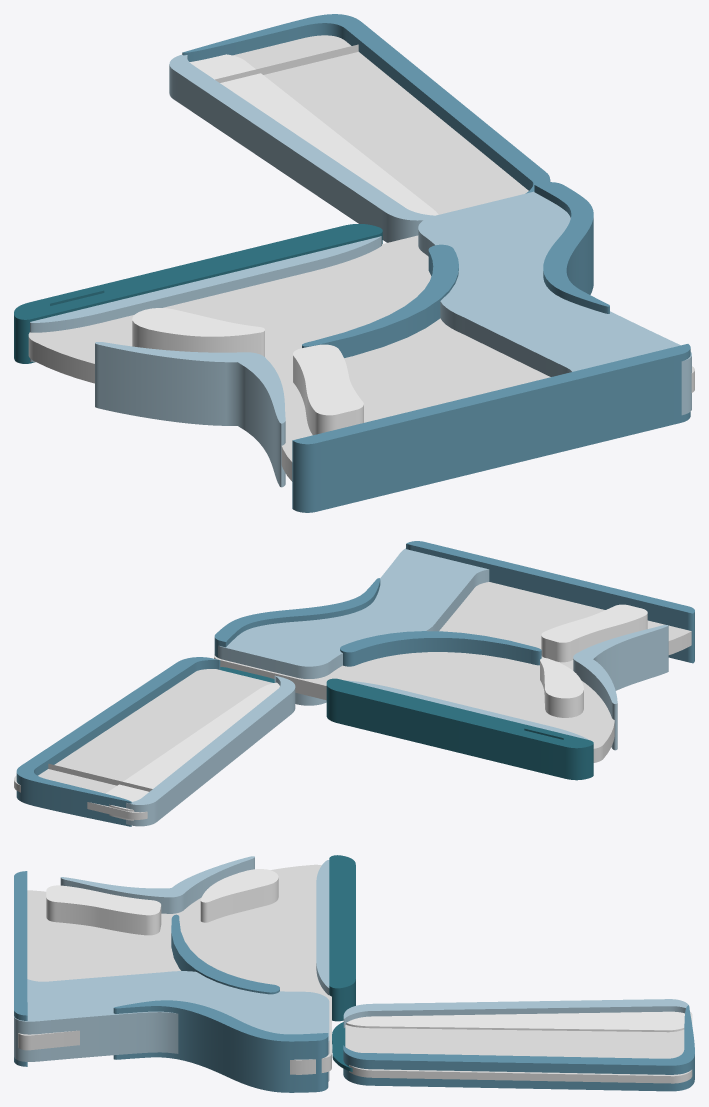
Rendered from emoji_u1f6bd.glb.
3 views of the same model, one above another, from view 1: azimuth 30°, elevation 25°; view 2: azimuth 150°, elevation 25°; view 3: azimuth 270°, elevation 25° (orthographic). The views are drawn at different scales.
Parts seen in each view (by area): view 1: emoji_u1f6bd; view 2: emoji_u1f6bd; view 3: emoji_u1f6bd.
Part boxes in pixels (x1,y1,x2,y2): emoji_u1f6bd: (14, 14, 694, 512); emoji_u1f6bd: (14, 541, 694, 826); emoji_u1f6bd: (14, 855, 694, 1092).
Size of the model in its own units: 0.0244 by 0.003 by 0.0337.
